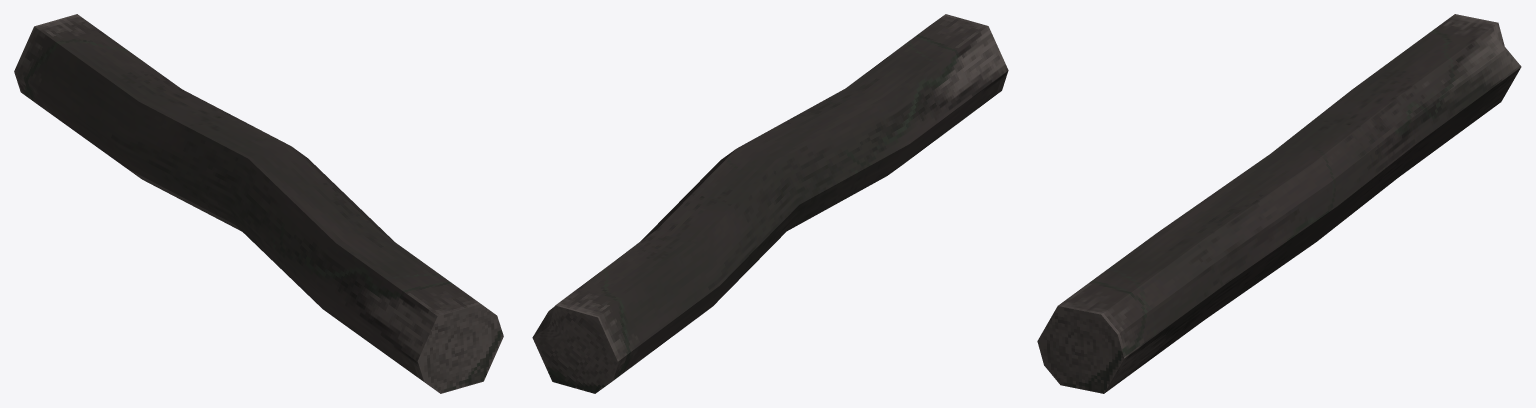
The model's file is treelog2.fbx.
3 views of the same model, side by side, from view 1: azimuth 30°, elevation 25°; view 2: azimuth 150°, elevation 25°; view 3: azimuth 330°, elevation 25° (orthographic).
Parts seen in each view (by area): view 1: treelog2; view 2: treelog2; view 3: treelog2.
Boxes of the visible parts, left/top/right/bottom form: treelog2: left=14, top=14, right=503, bottom=393; treelog2: left=532, top=14, right=1008, bottom=393; treelog2: left=1037, top=14, right=1521, bottom=393.
Size of the model in its own units: 1.17 by 0.9938 by 8.01.
